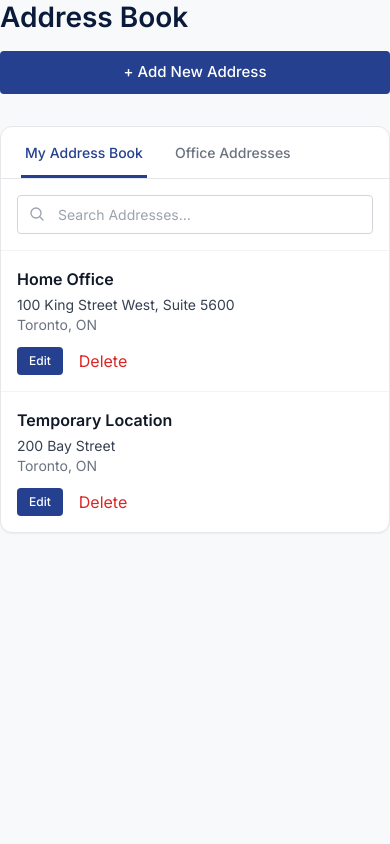
Test: AddressBookPage › AB-08 Edit opens modal with that row filled
What coordinates should you click on to do the following:
click the button "Edit" below "Home Office"
I would click on:
 (40, 361)
Its box is [17,347,63,375].
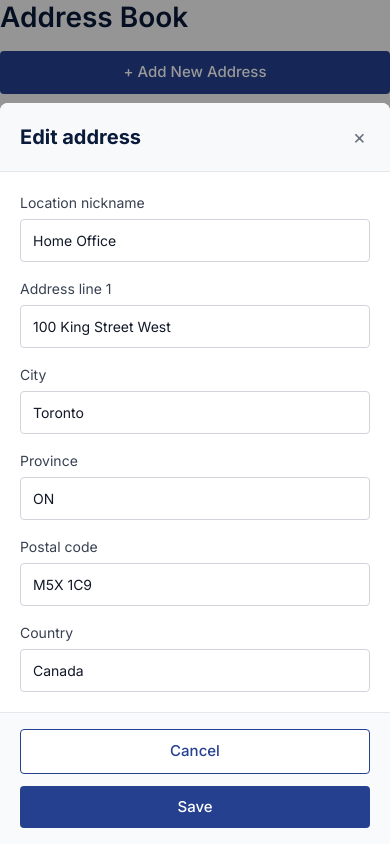
Check: the text "Home Office" is shown, box [17,269,114,289]
Check: the dialog is shown
